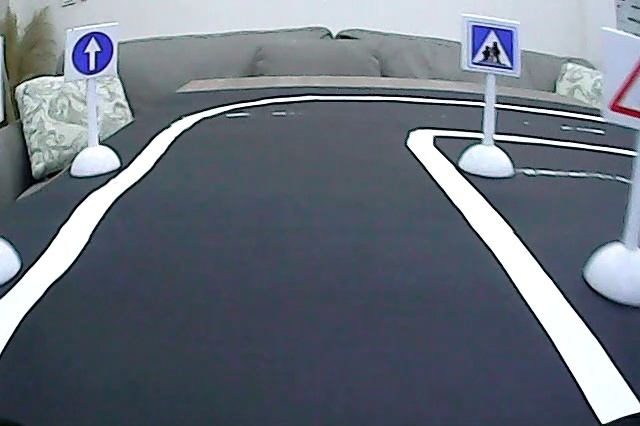school crossing: (466, 20, 516, 73)
